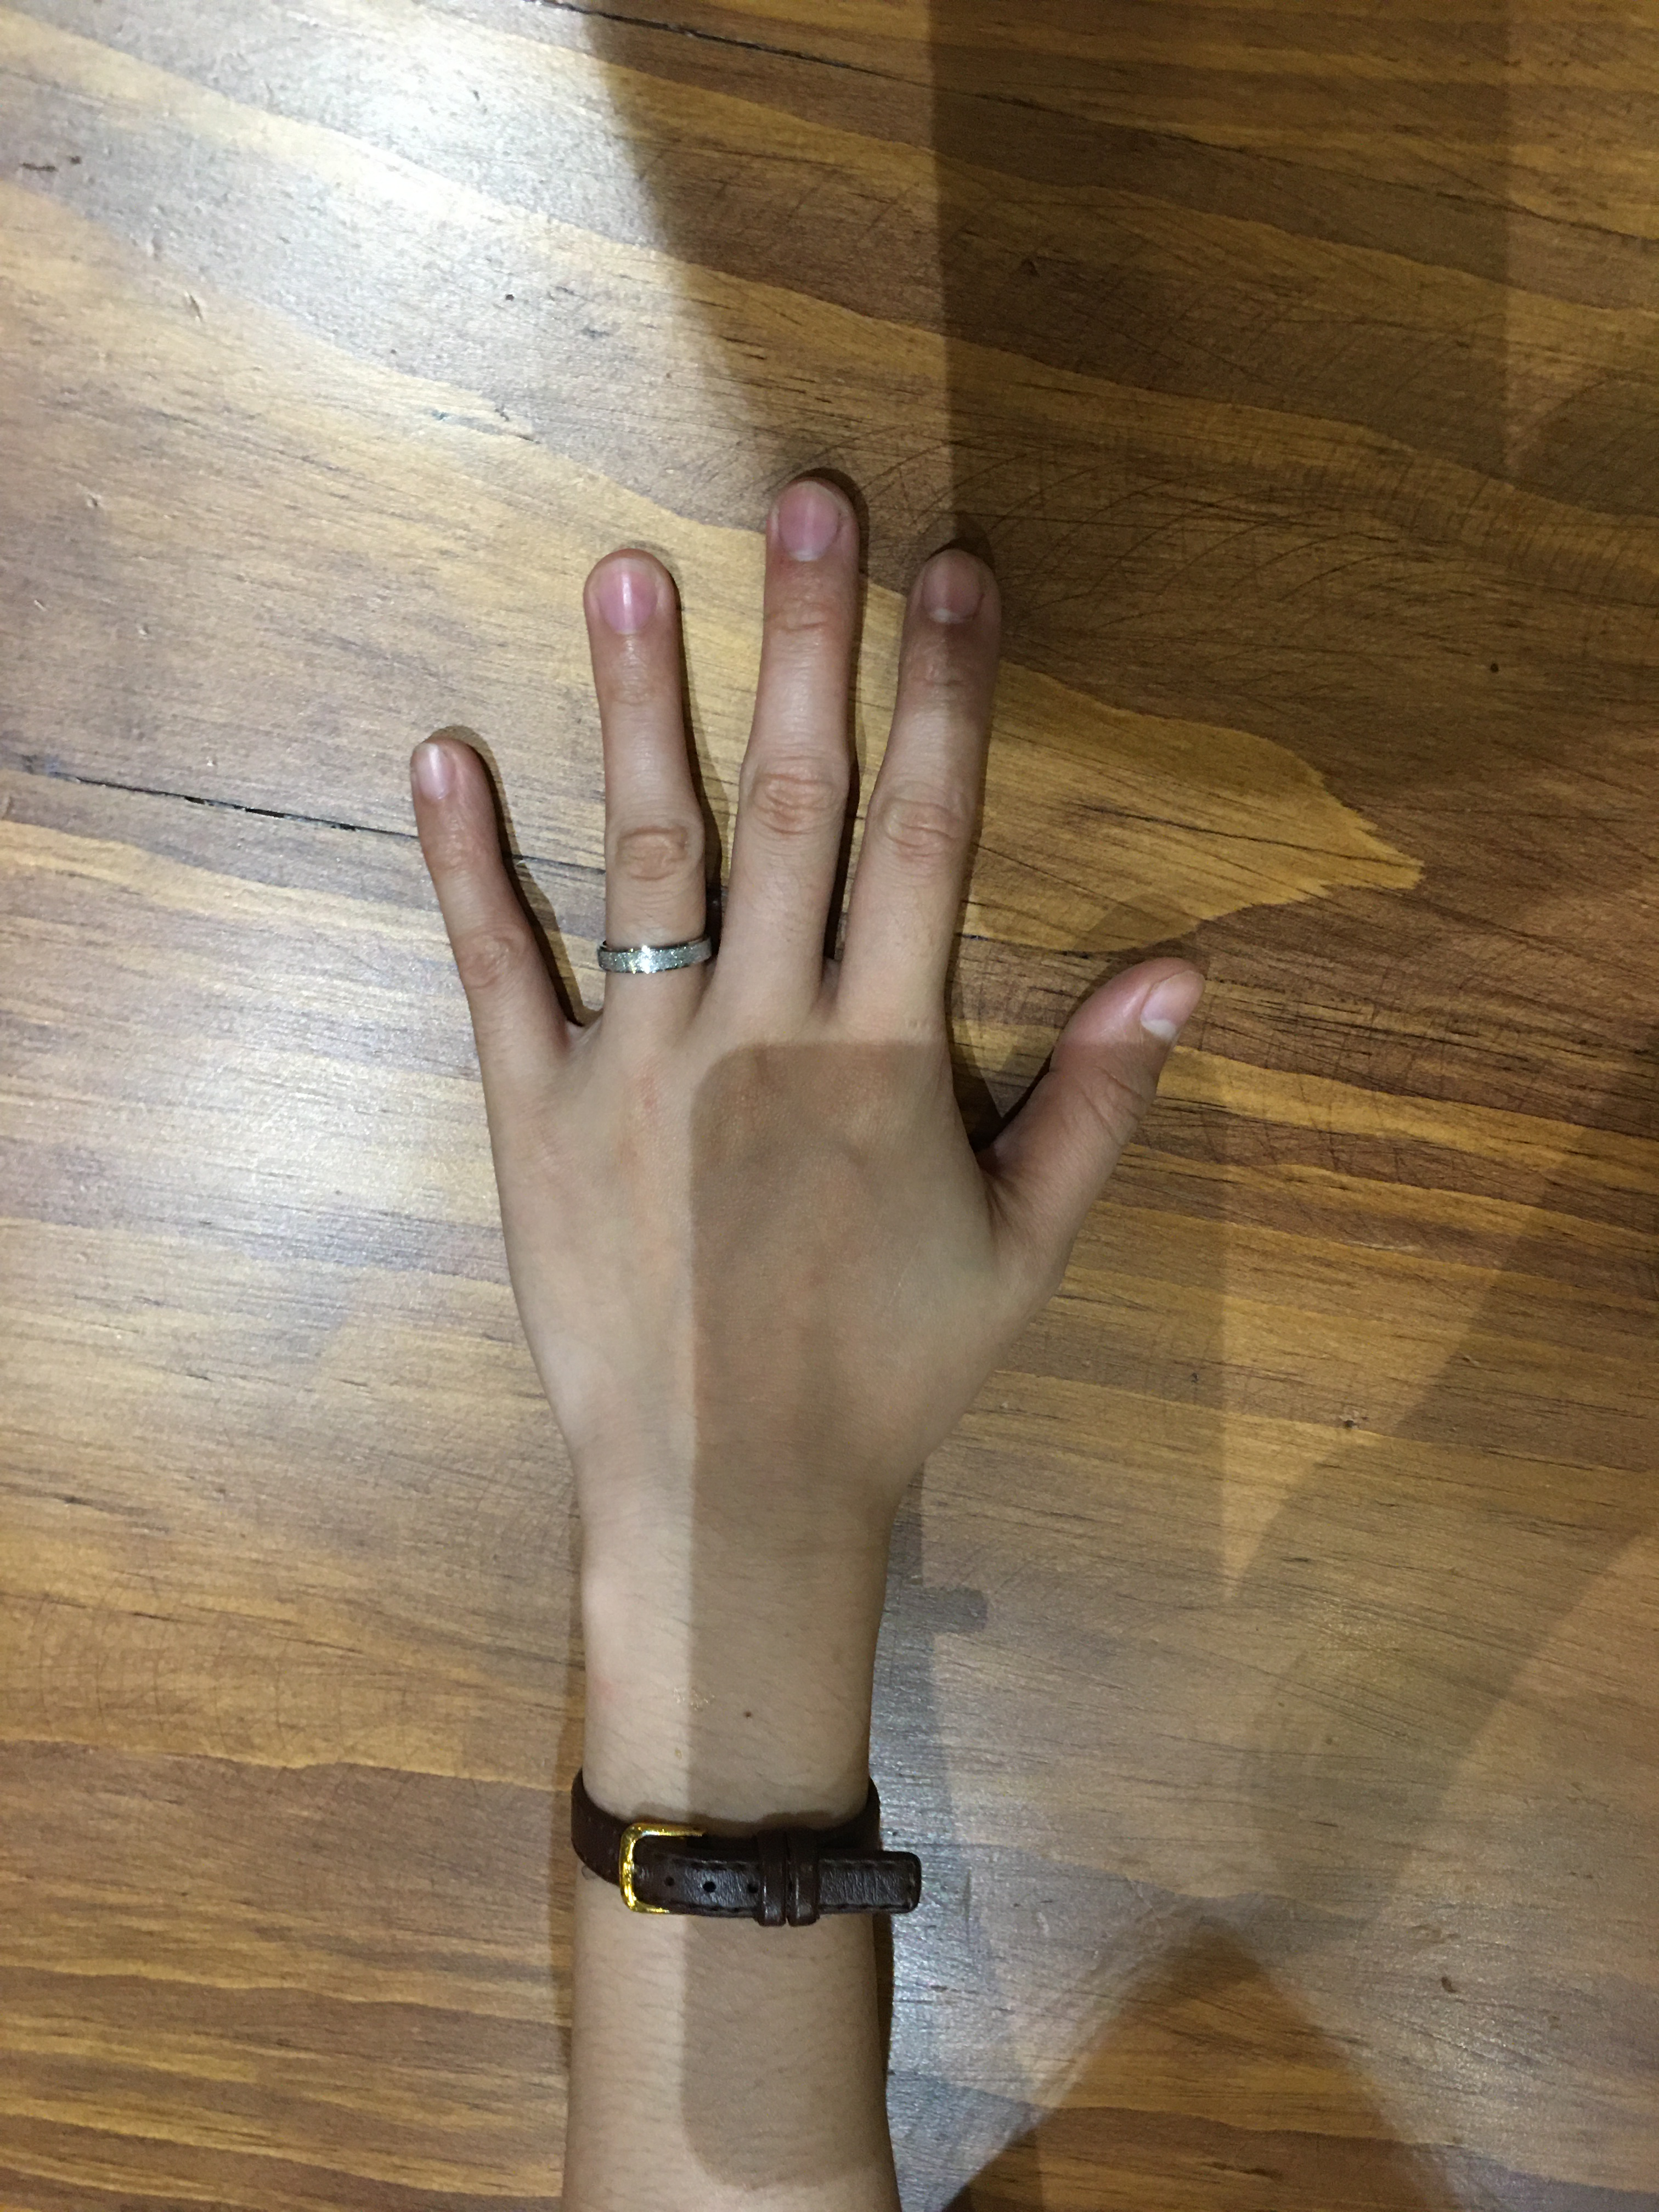nails: (579, 542, 680, 646), (769, 472, 854, 587), (1136, 948, 1220, 1054), (911, 542, 990, 646), (406, 728, 483, 808)
